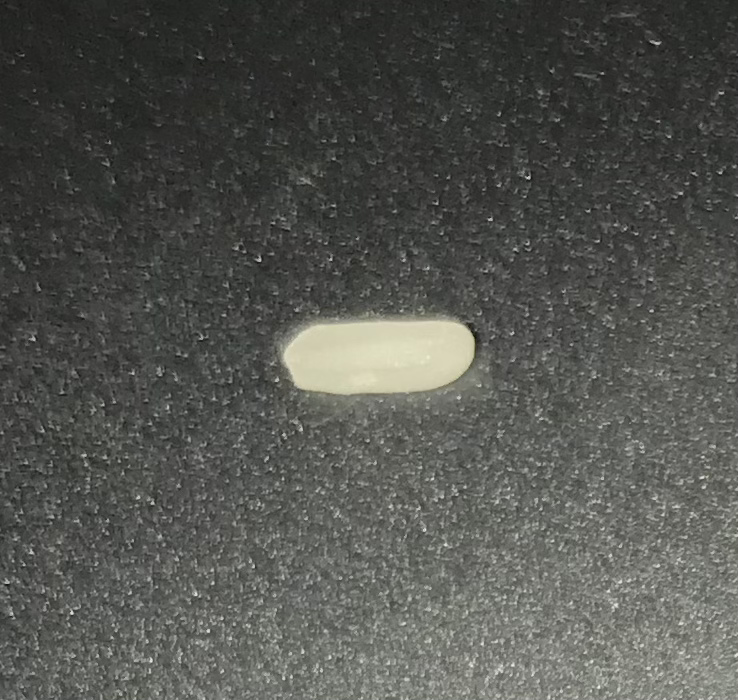Gao Tam Thom: (282, 316, 478, 401)
